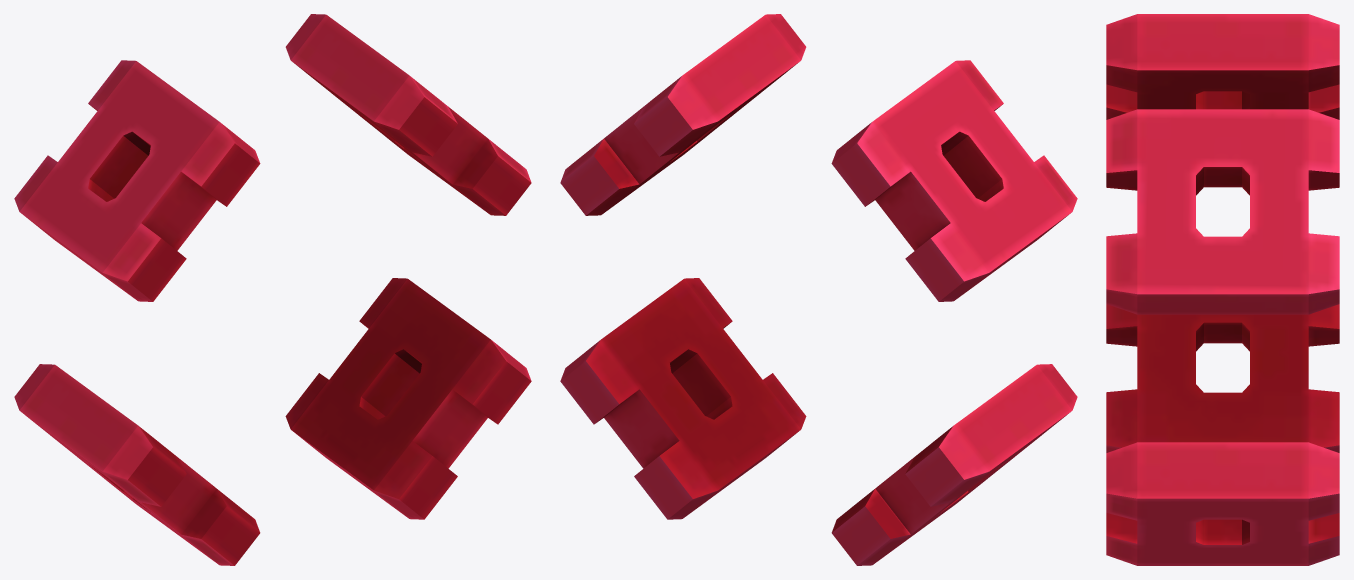
Rendered from TopBlocks.fbx.
3 views of the same model, side by side, from view 1: azimuth 30°, elevation 25°; view 2: azimuth 150°, elevation 25°; view 3: azimuth 270°, elevation 25° (orthographic). The views are drawn at different scales.
Parts seen in each view (by area): view 1: TopBlocks; view 2: TopBlocks; view 3: TopBlocks.
Boxes of the visible parts, bbox=[...] form: TopBlocks: bbox=[14, 14, 531, 565]; TopBlocks: bbox=[560, 14, 1077, 565]; TopBlocks: bbox=[1106, 14, 1339, 565].
Bounding box in the file's own units: 109 × 109 × 50.68.
